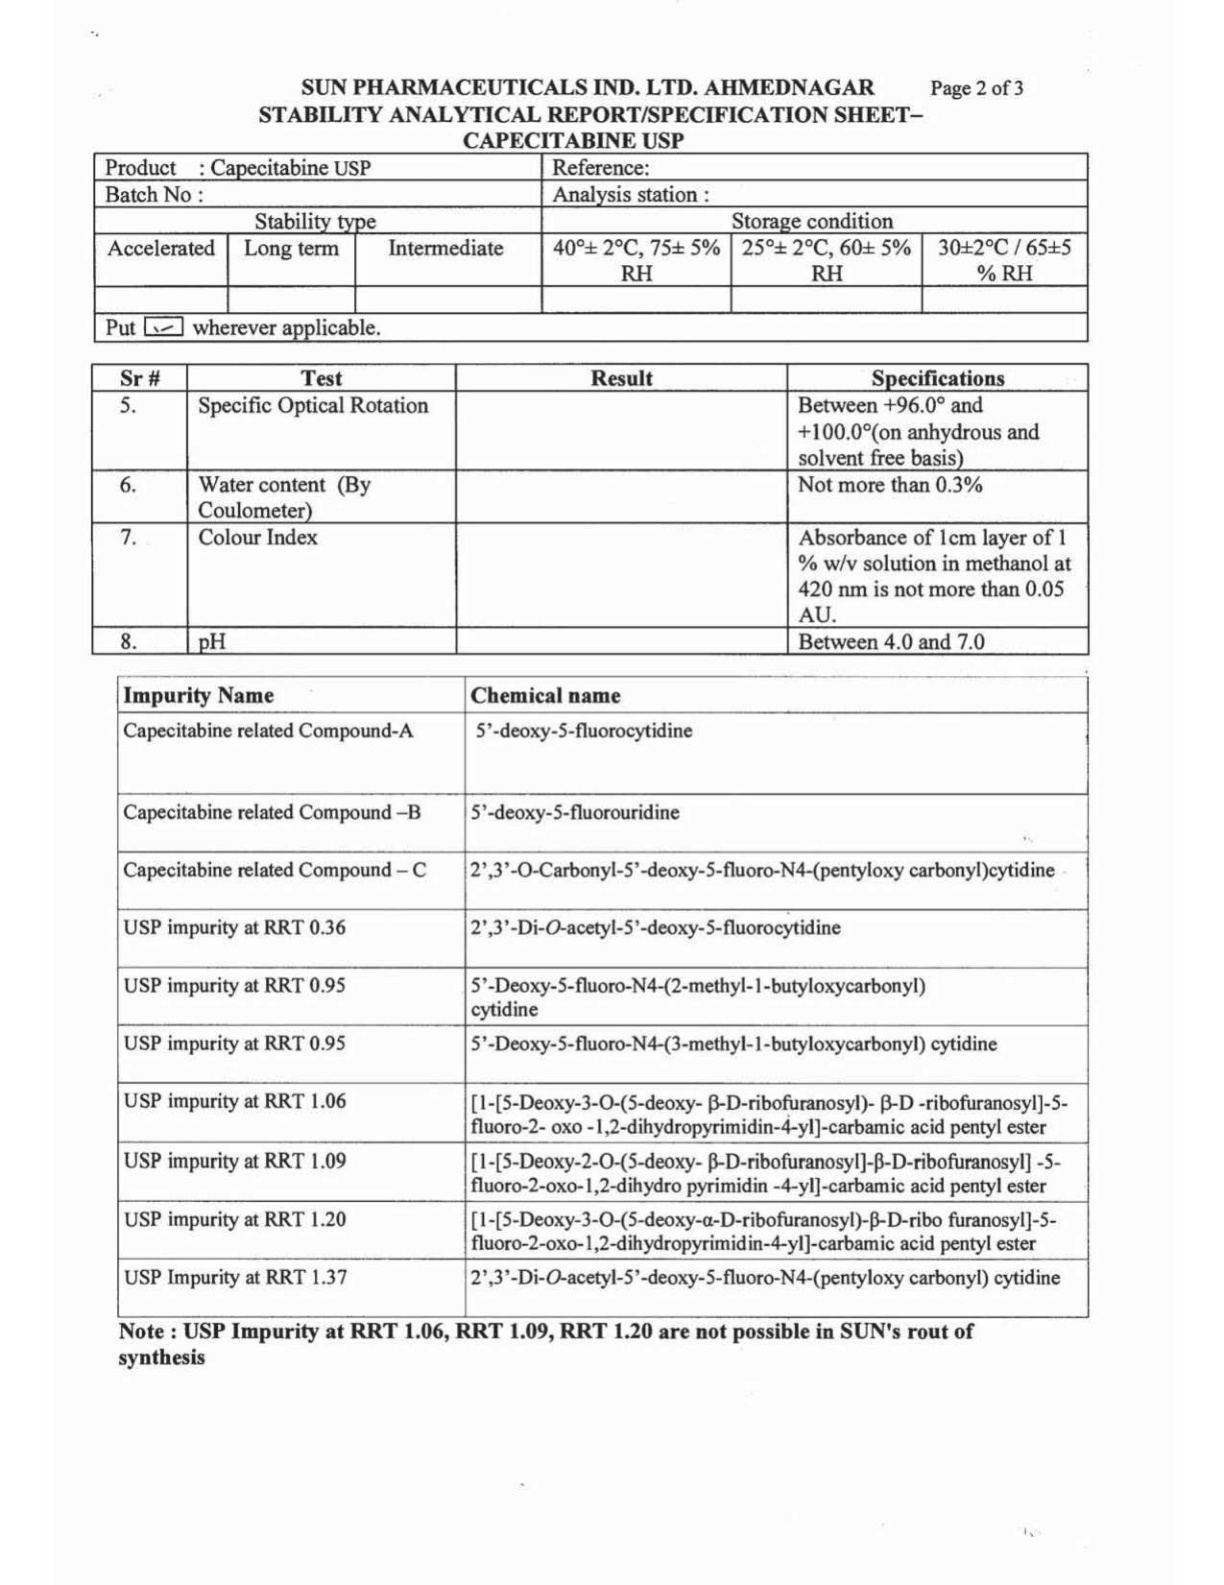full_lined: (114, 675, 1090, 1320), (89, 363, 1090, 657)
merged_cells: (93, 152, 1090, 345)
